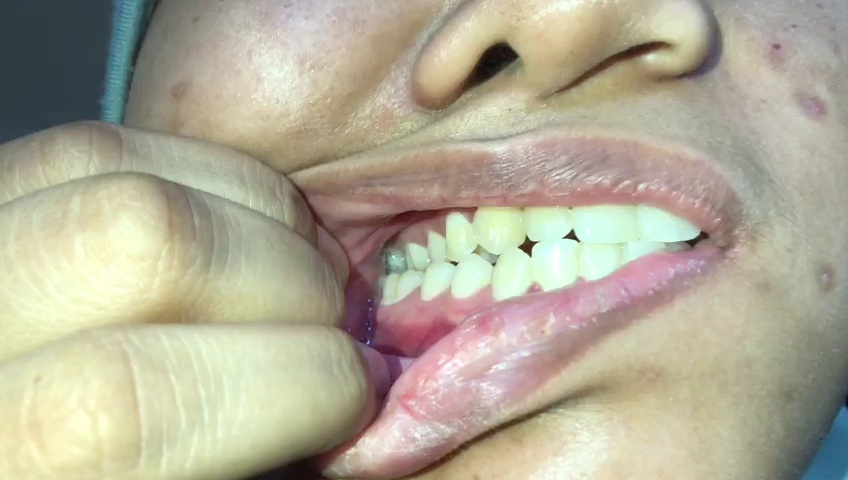1st Molar: (397, 268, 421, 303), (407, 244, 427, 273)
1st Premolar: (451, 258, 493, 300), (446, 211, 478, 264)
2nd Molar: (389, 245, 410, 273), (384, 272, 400, 308)
2nd Premolar: (421, 260, 453, 302), (424, 231, 451, 265)
Canine: (472, 196, 529, 256), (490, 247, 530, 305)
Lateral Incisor: (530, 239, 579, 295)
